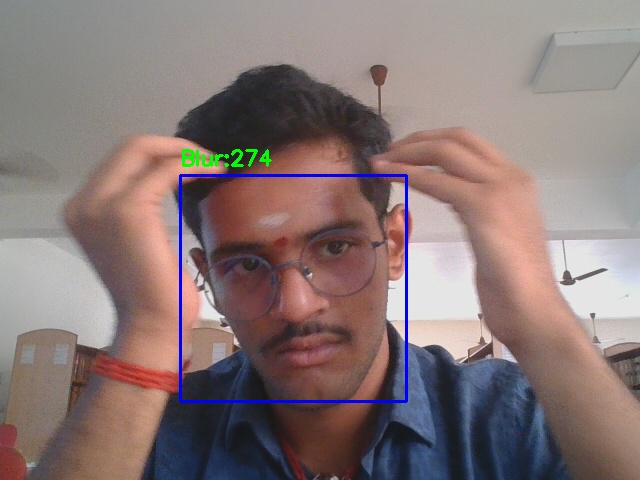real: (180, 175, 406, 401)
